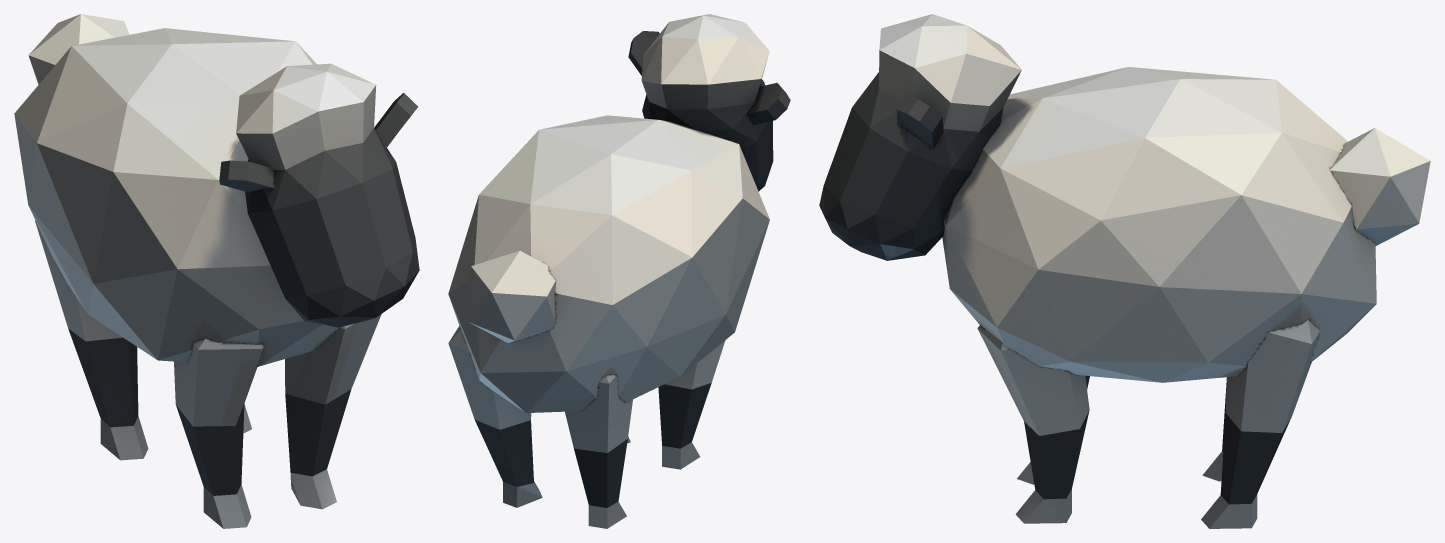
The model's file is PUSHILIN_sheep.gltf.
3 views of the same model, side by side, from view 1: azimuth 30°, elevation 25°; view 2: azimuth 150°, elevation 25°; view 3: azimuth 270°, elevation 25° (orthographic). The views are drawn at different scales.
Parts seen in each view (by area): view 1: node-0; view 2: node-0; view 3: node-0.
Boxes of the visible parts, x1,y1,x2,y2 form: node-0: (14,14,419,528); node-0: (448,14,790,528); node-0: (819,14,1430,528).
Size of the model in its own units: 0.9709 by 1.6 by 1.89.
1 material, 1 textured.
